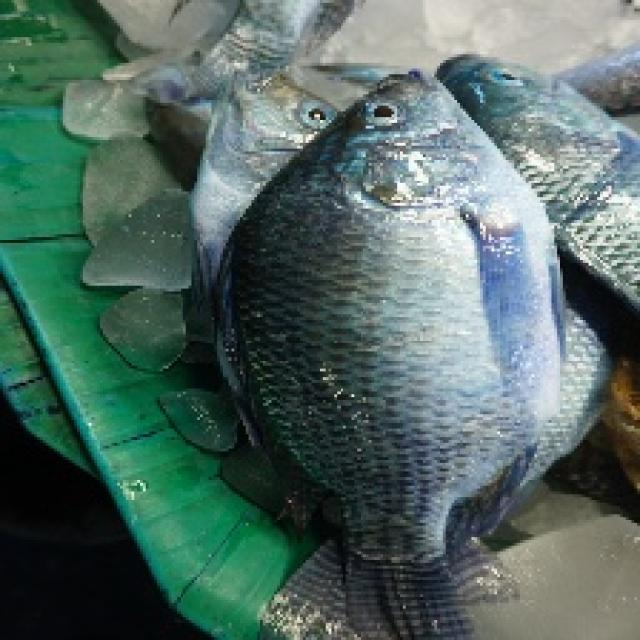Fresh: (214, 62, 566, 640), (218, 49, 328, 163)
